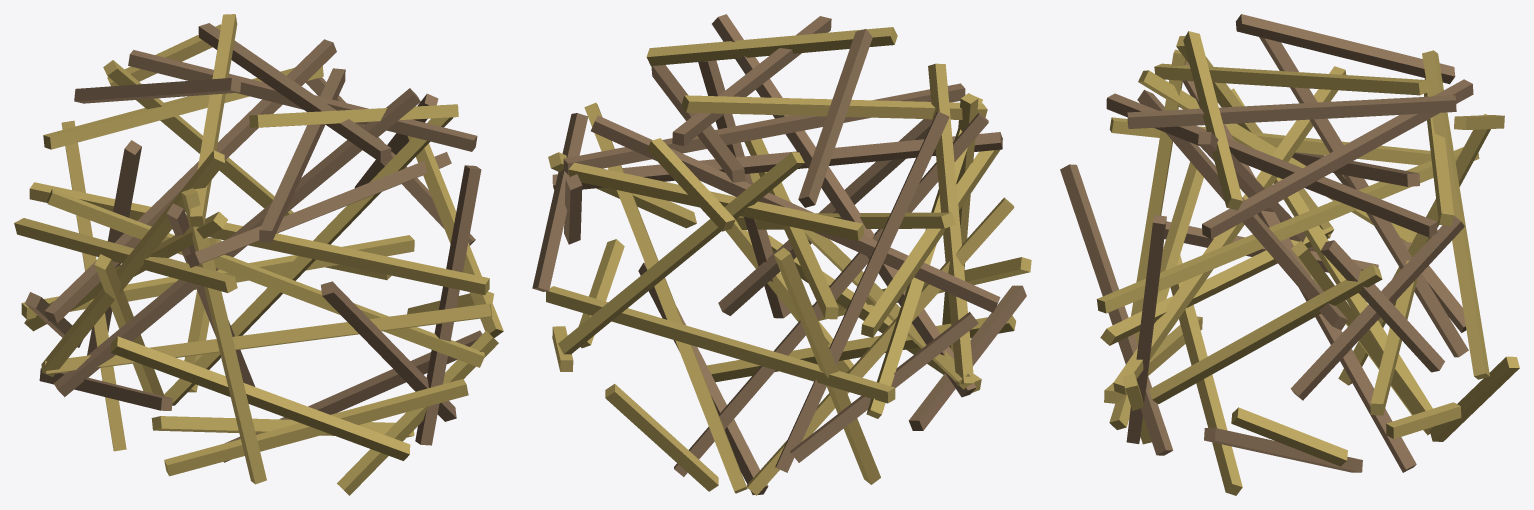
The model's file is buisson_desert_3.glb.
3 views of the same model, side by side, from view 1: azimuth 30°, elevation 25°; view 2: azimuth 150°, elevation 25°; view 3: azimuth 270°, elevation 25° (orthographic).
Visible parts, largest first — view 1: brindilles_herbe_seche.002, brindilles_bois_sec.002; view 2: brindilles_herbe_seche.002, brindilles_bois_sec.002; view 3: brindilles_herbe_seche.002, brindilles_bois_sec.002.
Boxes of the visible parts, left/top/right/bottom form: brindilles_herbe_seche.002: left=14, top=14, right=503, bottom=495; brindilles_bois_sec.002: left=25, top=23, right=482, bottom=462; brindilles_herbe_seche.002: left=546, top=27, right=1031, bottom=495; brindilles_bois_sec.002: left=532, top=14, right=1026, bottom=494; brindilles_herbe_seche.002: left=1096, top=31, right=1519, bottom=495; brindilles_bois_sec.002: left=1060, top=14, right=1473, bottom=472.
Bounding box in the file's own units: 0.4894 × 0.472 × 0.4519.
